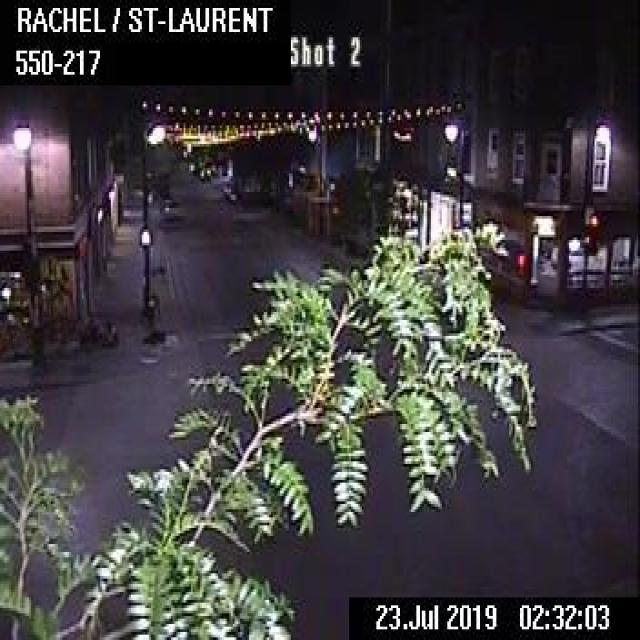vehicle: (220, 178, 244, 202), (158, 196, 173, 216), (197, 163, 212, 178)
